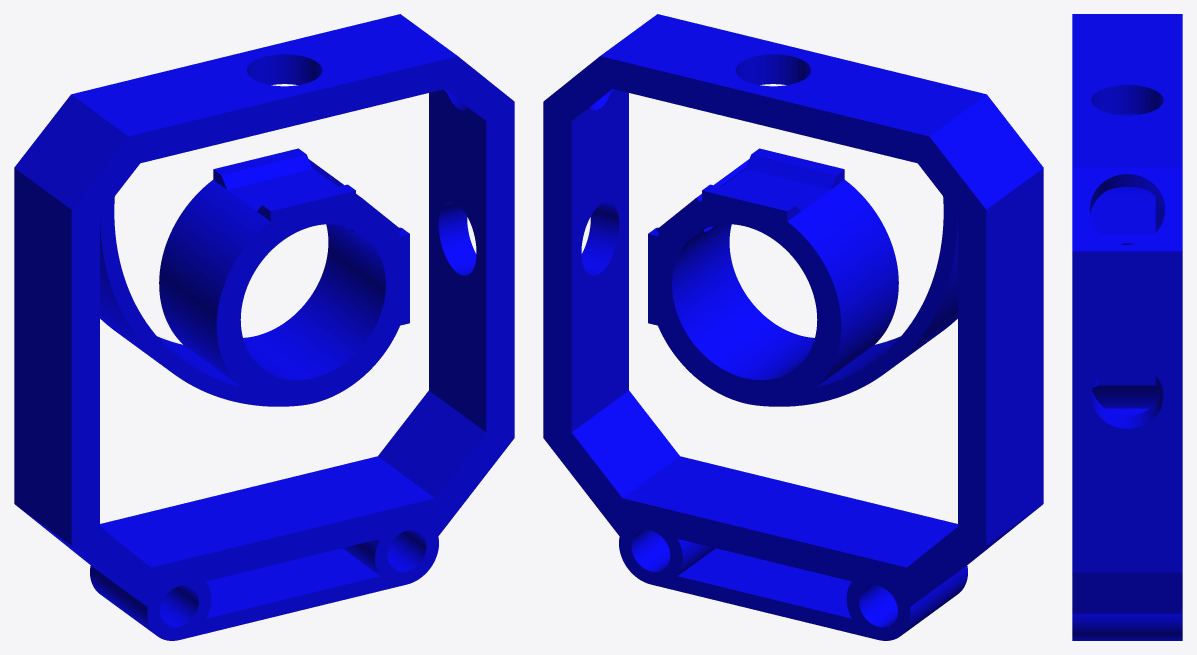
Rendered from Cube 1x1 V5_Laser Holder (Smaller Laser).obj.
3 renders of one model, left to right at view 1: azimuth 30°, elevation 25°; view 2: azimuth 150°, elevation 25°; view 3: azimuth 270°, elevation 25°, orthographic. The views are drawn at different scales.
Parts seen in each view (by area): view 1: Solid1:18; view 2: Solid1:18; view 3: Solid1:18.
Boxes of the visible parts, <box> form: Solid1:18: <box>14,14,514,640</box>; Solid1:18: <box>543,14,1043,640</box>; Solid1:18: <box>1072,14,1182,640</box>.
Bounding box in the file's own units: 38.94 × 43.33 × 8.75.
